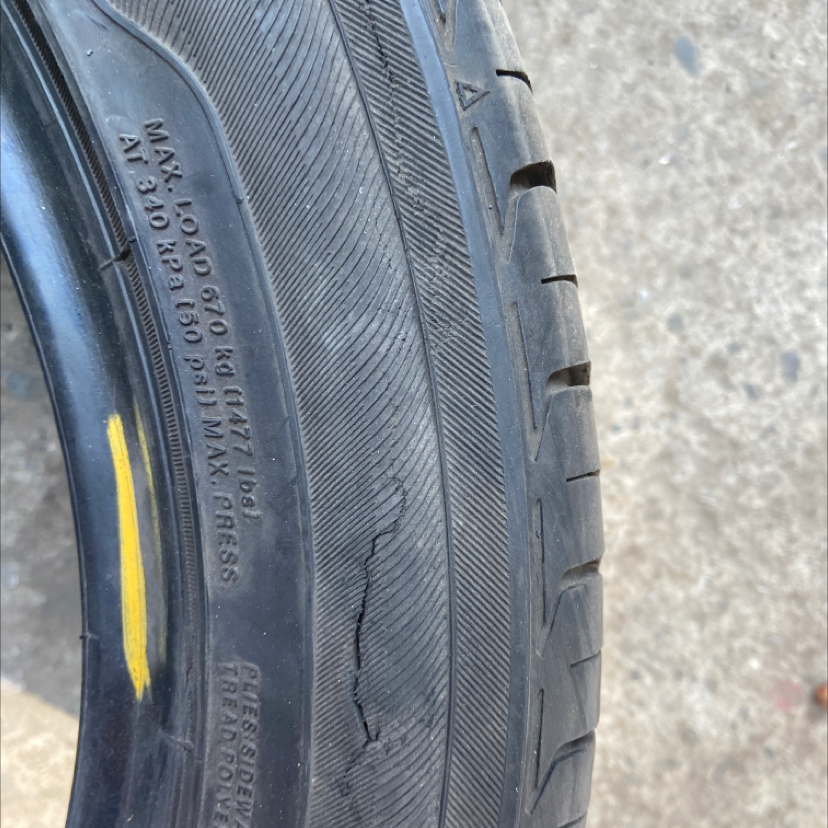cut: (341, 458, 424, 782)
